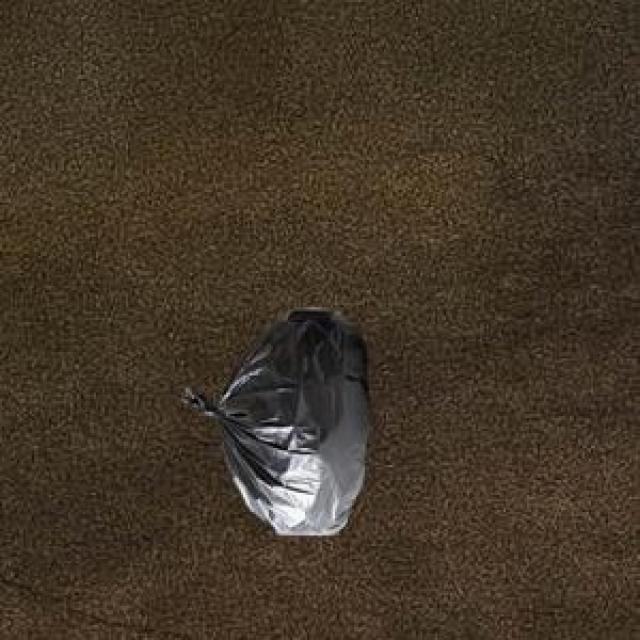Trashbag: (204, 315, 408, 533)
